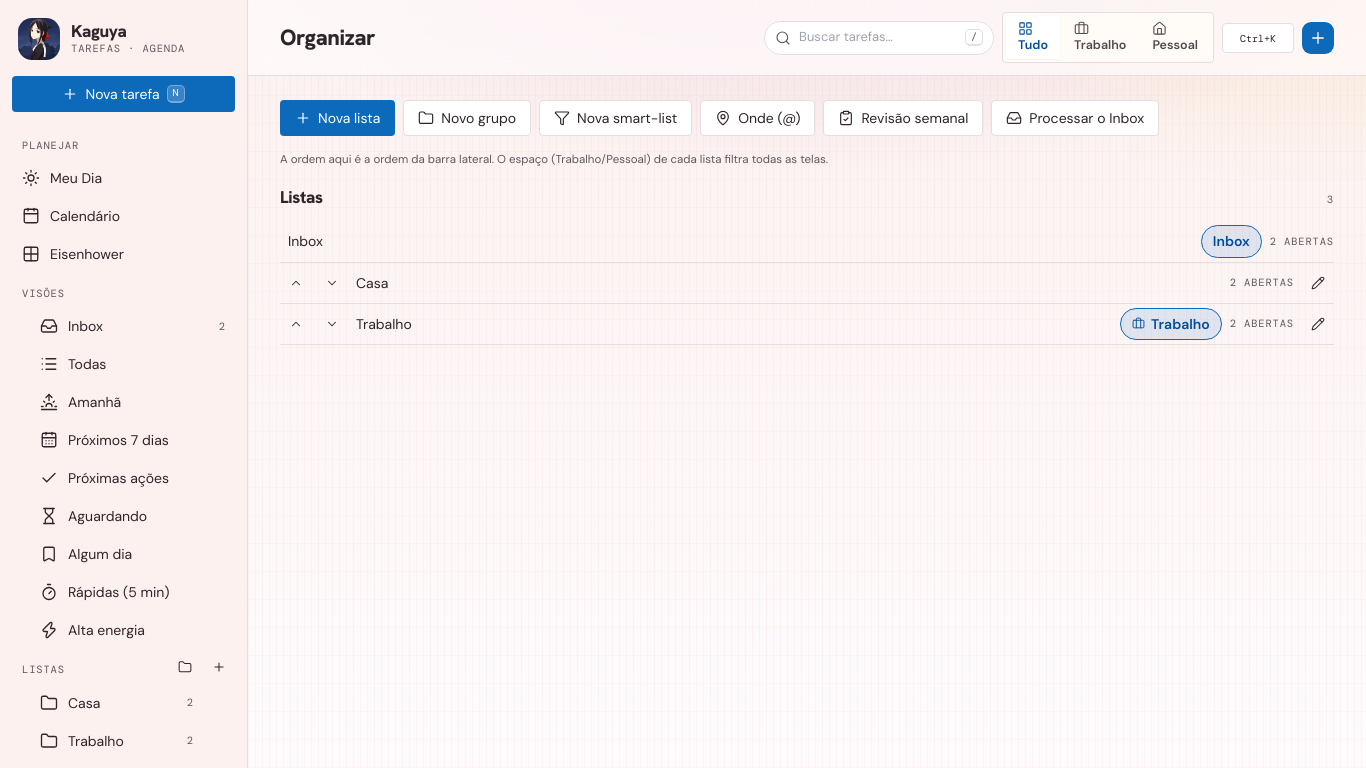
Test: Revisão semanal › abre no primeiro passo pendente e marca o passo como visto
Click the button "Revisão semanal" at x=903, y=118, box [824,100,983,136]
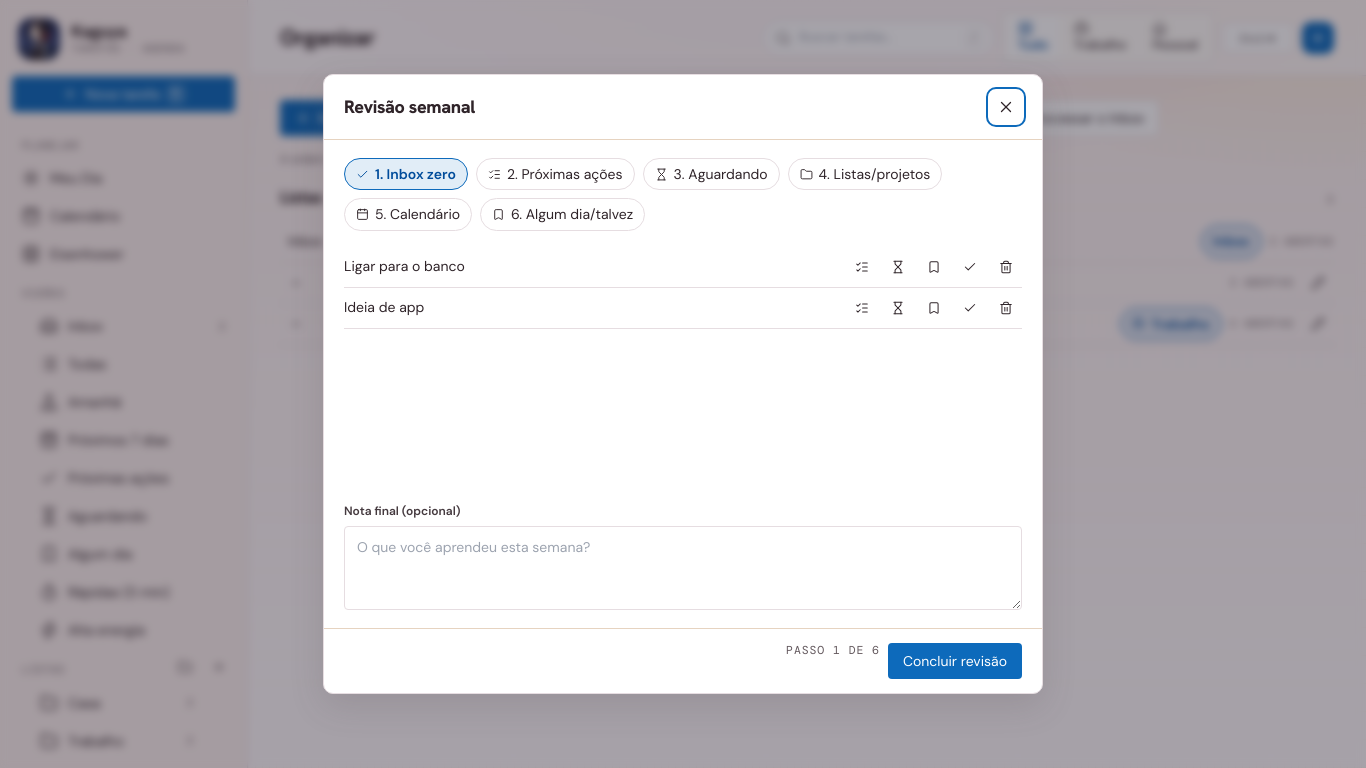
Expected: the text "Ligar para o banco" is shown, [344,256,465,277]
